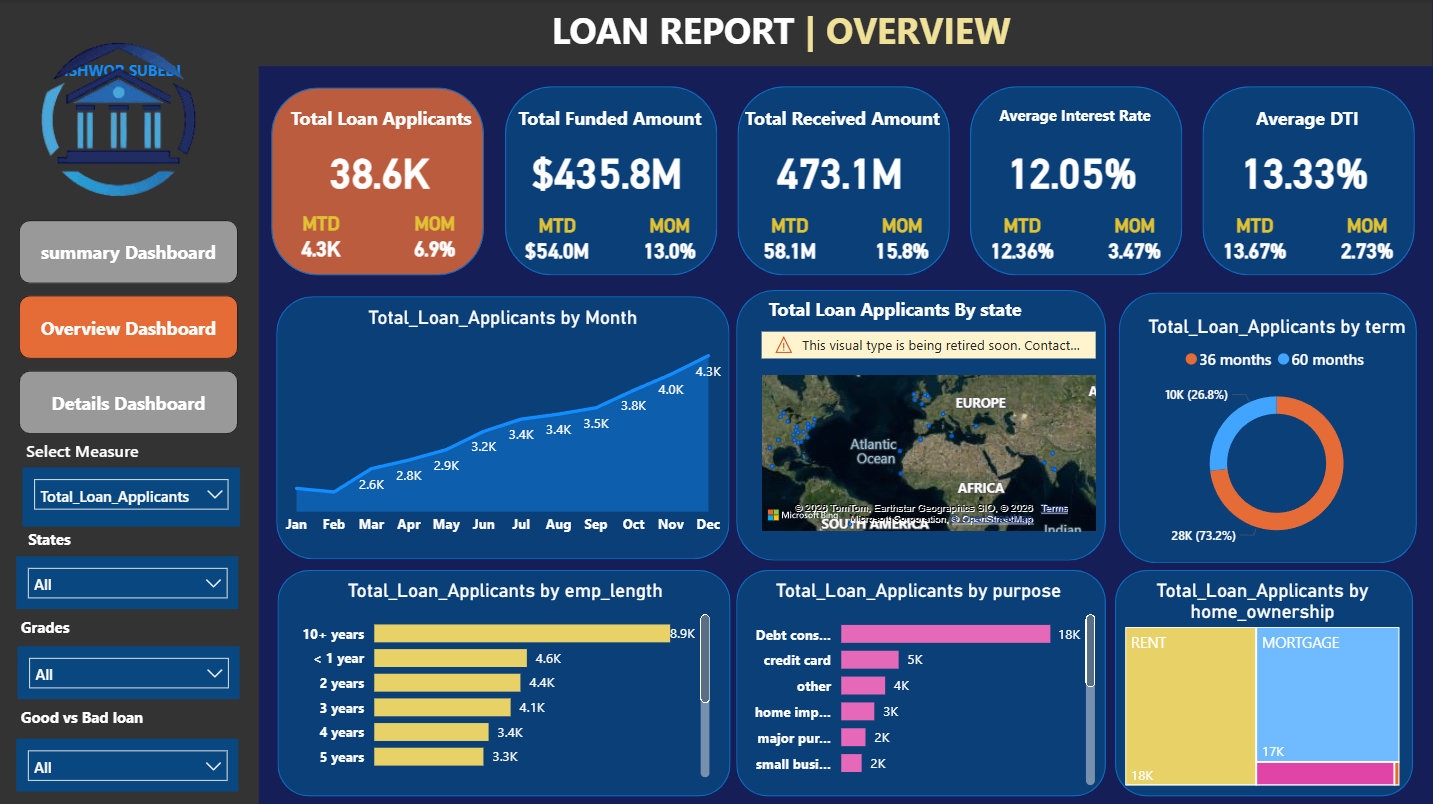

This screenshot's page, from the dashboard's own definition file:
{"tool":"powerbi","page":{"name":"Overview Dashboard","canvas":[1280,720],"ordinal":1},"visuals":[{"type":"shape","box":[0,58.1,231.1,662.2],"z":0},{"type":"shape","box":[450.5,76.5,189.7,169.1],"z":0,"group":"g1"},{"type":"shape","box":[658.4,76.5,189.7,169.1],"z":0,"group":"g2"},{"type":"shape","box":[866.3,76.5,189.7,169.1],"z":0,"group":"g3"},{"type":"shape","box":[1074.2,76.5,189.7,169.1],"z":0,"group":"g4"},{"type":"slicer","fields":{"Values":["loan_data.grade"]},"box":[15.6,577.6,198.8,46.9],"z":0,"group":"g6"},{"type":"shape","box":[0,0,1279.7,59.2],"z":1000},{"type":"shape","box":[242.1,77.7,190,167.9],"z":1000,"group":"g5"},{"type":"card","fields":{"Values":["loan_data.Total_Funded_Amount"]},"box":[467.7,123.2,149,56.7],"z":1000,"group":"g1"},{"type":"card","fields":{"Values":["loan_data.Total Received Amount"]},"box":[675.6,123.2,149,56.7],"z":1000,"group":"g2"},{"type":"card","fields":{"Values":["loan_data.AVG_int_Rate"]},"box":[883.5,123.2,149,56.7],"z":1000,"group":"g3"},{"type":"card","fields":{"Values":["loan_data.AVG DTI"]},"box":[1091.4,123.2,149,56.7],"z":1000,"group":"g4"},{"type":"textbox","box":[5.6,546.3,69.2,31.3],"z":1000,"group":"g6"},{"type":"textbox","box":[488,0,441.1,59.2],"z":2000},{"type":"textbox","box":[449.5,88.9,189.7,38.1],"z":2000,"group":"g1"},{"type":"textbox","box":[657.4,88.9,189.7,38.1],"z":2000,"group":"g2"},{"type":"textbox","box":[865.3,88.9,189.7,38.1],"z":2000,"group":"g3"},{"type":"textbox","box":[1073.2,88.9,189.7,38.1],"z":2000,"group":"g4"},{"type":"card","fields":{"Values":["loan_data.Total_Loan_Applicants"]},"box":[264.4,123.4,149,56.3],"z":3000,"group":"g5"},{"type":"card","title":"MOM","fields":{"Values":["loan_data.MOM_loan_amount"]},"box":[554.7,189.9,86.6,47.4],"z":3000,"group":"g1"},{"type":"card","title":"MOM","fields":{"Values":["loan_data.MOM_Received_Amount"]},"box":[762.6,189.9,86.6,47.4],"z":3000,"group":"g2"},{"type":"card","title":"MOM","fields":{"Values":["loan_data.MOM_int_rate"]},"box":[970.5,189.9,86.6,47.4],"z":3000,"group":"g3"},{"type":"card","title":"MOM","fields":{"Values":["loan_data.MOM_DTI"]},"box":[1178.4,189.9,86.6,47.4],"z":3000,"group":"g4"},{"type":"shape","box":[658.1,259.3,330.2,241.9],"z":3000},{"type":"group","id":"g1","title":"Group 1","box":[449.5,76.5,191.8,169.1],"z":4000},{"type":"card","title":"MTD","fields":{"Values":["loan_data.MTD_loan_amount"]},"box":[453.6,189.9,86.6,47.4],"z":4000,"group":"g1"},{"type":"card","title":"MTD","fields":{"Values":["loan_data.MTD_Recived_Amount"]},"box":[661.5,189.9,86.6,47.4],"z":4000,"group":"g2"},{"type":"card","title":"MTD","fields":{"Values":["loan_data.MTD_int_rate"]},"box":[869.4,189.9,86.6,47.4],"z":4000,"group":"g3"},{"type":"card","title":"MTD","fields":{"Values":["loan_data.MTD_DTI"]},"box":[1077.3,189.9,86.6,47.4],"z":4000,"group":"g4"},{"type":"group","id":"g2","title":"Group 1","box":[657.4,76.5,191.8,169.1],"z":5000},{"type":"textbox","box":[230.9,89.3,218.6,38.1],"z":5000,"group":"g5"},{"type":"card","title":"MTD","fields":{"Values":["loan_data.MTD_LOAN_APPLICANTS"]},"box":[242.9,189.9,86.6,47.4],"z":6000,"group":"g5"},{"type":"shape","box":[246.5,265.1,405,235],"z":6000},{"type":"textbox","box":[14.5,468.1,59.2,29],"z":6000,"group":"g7"},{"type":"card","title":"MOM","fields":{"Values":["loan_data.MoM_LOAN_APPLICANTS_%"]},"box":[345,189.9,86.6,47.4],"z":7000,"group":"g5"},{"type":"textbox","box":[657,260.5,286,38.4],"z":7000},{"type":"group","id":"g3","title":"Group 1","box":[865.3,76.5,191.8,169.1],"z":8000},{"type":"group","id":"g4","title":"Group 1","box":[1073.2,76.5,191.8,169.1],"z":9000},{"type":"group","id":"g5","title":"Group 2","box":[230.9,77.7,218.6,168],"z":10000},{"type":"group","id":"g6","title":"Group 5","box":[5.6,546.3,208.8,78.2],"z":11000},{"type":"group","id":"g7","title":"Group 6","box":[14.5,468.1,198.8,77],"z":12000},{"type":"slicer","fields":{"Values":["loan_data.Good vs Bad loan"]},"box":[14.5,660,198.8,46.9],"z":13000},{"type":"textbox","box":[13.4,626.5,119.5,36.8],"z":14000},{"type":"slicer","fields":{"Values":["Select Measure.Select Measure"]},"box":[20.1,417.7,194.3,52.5],"z":15000},{"type":"textbox","box":[7.8,387.6,131.8,36.8],"z":16000},{"type":"stackedAreaChart","fields":{"Y":["loan_data.Total_Loan_Applicants"],"Category":["Date Table.Month"]},"box":[246.5,273.3,404.7,212.8],"z":17000},{"type":"map","fields":{"Category":["loan_data.address_state"]},"box":[675.6,291.9,308.1,188.4],"z":18000},{"type":"shape","box":[247.7,509.3,404.7,202.3],"z":19000},{"type":"shape","box":[998.8,261.6,266.3,241.9],"z":20000},{"type":"slicer","fields":{"Values":["loan_data.address_state"]},"box":[14.5,497.1,198.8,46.9],"z":20000,"group":"g7"},{"type":"donutChart","fields":{"Y":["loan_data.Total_Loan_Applicants"],"Category":["loan_data.term"]},"box":[1000,281.4,280.2,216.3],"z":21000},{"type":"clusteredBarChart","fields":{"Y":["loan_data.Total_Loan_Applicants"],"Category":["loan_data.emp_length"]},"box":[264,517.4,375.6,182.6],"z":22000},{"type":"shape","box":[658.1,509.3,330.2,202.3],"z":23000},{"type":"clusteredBarChart","fields":{"Y":["loan_data.Total_Loan_Applicants"],"Category":["loan_data.purpose"]},"box":[658.1,517.4,325.6,189.5],"z":24000},{"type":"shape","box":[996.5,509.3,266.3,202.3],"z":25000},{"type":"treemap","fields":{"Values":["loan_data.Total_Loan_Applicants"],"Group":["loan_data.home_ownership"]},"box":[1000,517.4,254.7,189.5],"z":26000},{"type":"pageNavigator","box":[16.7,196.5,196.5,192.1],"z":27000},{"type":"textbox","box":[16.7,49.1,185.4,40.2],"z":27500},{"type":"image","box":[0,0,212.2,213.3],"z":28000}]}

Visuals, with their boxes on the page's 1280x720 design canvas (x1, y1, x2, y2). These are canvas units, not pixel positions in the 1433x804 screenshot, which may show the page scaled, cropped or inside an application window:
shape: [0, 58, 231, 720]
shape: [450, 76, 640, 246]
shape: [658, 76, 848, 246]
shape: [866, 76, 1056, 246]
shape: [1074, 76, 1264, 246]
slicer - loan_data.grade: [16, 578, 214, 624]
shape: [0, 0, 1280, 59]
shape: [242, 78, 432, 246]
card - loan_data.Total_Funded_Amount: [468, 123, 617, 180]
card - loan_data.Total Received Amount: [676, 123, 825, 180]
card - loan_data.AVG_int_Rate: [884, 123, 1032, 180]
card - loan_data.AVG DTI: [1091, 123, 1240, 180]
textbox: [6, 546, 75, 578]
textbox: [488, 0, 929, 59]
textbox: [450, 89, 639, 127]
textbox: [657, 89, 847, 127]
textbox: [865, 89, 1055, 127]
textbox: [1073, 89, 1263, 127]
card - loan_data.Total_Loan_Applicants: [264, 123, 413, 180]
"MOM" card: [555, 190, 641, 237]
"MOM" card: [763, 190, 849, 237]
"MOM" card: [970, 190, 1057, 237]
"MOM" card: [1178, 190, 1265, 237]
shape: [658, 259, 988, 501]
"Group 1" group: [450, 76, 641, 246]
"MTD" card: [454, 190, 540, 237]
"MTD" card: [662, 190, 748, 237]
"MTD" card: [869, 190, 956, 237]
"MTD" card: [1077, 190, 1164, 237]
"Group 1" group: [657, 76, 849, 246]
textbox: [231, 89, 450, 127]
"MTD" card: [243, 190, 330, 237]
shape: [246, 265, 652, 500]
textbox: [14, 468, 74, 497]
"MOM" card: [345, 190, 432, 237]
textbox: [657, 260, 943, 299]
"Group 1" group: [865, 76, 1057, 246]
"Group 1" group: [1073, 76, 1265, 246]
"Group 2" group: [231, 78, 450, 246]
"Group 5" group: [6, 546, 214, 624]
"Group 6" group: [14, 468, 213, 545]
slicer - loan_data.Good vs Bad loan: [14, 660, 213, 707]
textbox: [13, 626, 133, 663]
slicer - Select Measure.Select Measure: [20, 418, 214, 470]
textbox: [8, 388, 140, 424]
stackedAreaChart - loan_data.Total_Loan_Applicants x Date Table.Month: [246, 273, 651, 486]
map - loan_data.address_state: [676, 292, 984, 480]
shape: [248, 509, 652, 712]
shape: [999, 262, 1265, 504]
slicer - loan_data.address_state: [14, 497, 213, 544]
donutChart - loan_data.Total_Loan_Applicants x loan_data.term: [1000, 281, 1280, 498]
clusteredBarChart - loan_data.Total_Loan_Applicants x loan_data.emp_length: [264, 517, 640, 700]
shape: [658, 509, 988, 712]
clusteredBarChart - loan_data.Total_Loan_Applicants x loan_data.purpose: [658, 517, 984, 707]
shape: [996, 509, 1263, 712]
treemap - loan_data.Total_Loan_Applicants x loan_data.home_ownership: [1000, 517, 1255, 707]
pageNavigator: [17, 196, 213, 389]
textbox: [17, 49, 202, 89]
image: [0, 0, 212, 213]
